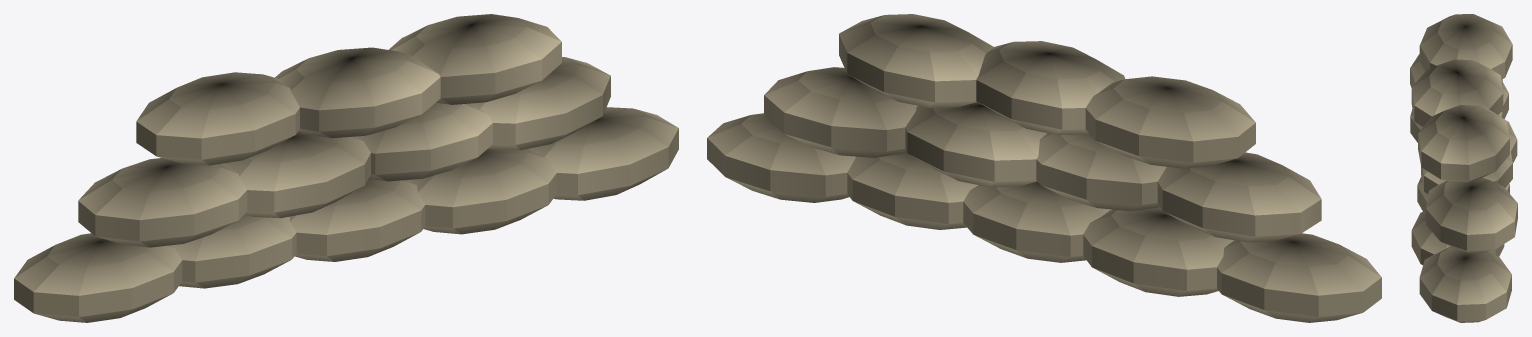
The model's file is prop_sandbags.glb.
3 renders of one model, left to right at view 1: azimuth 30°, elevation 25°; view 2: azimuth 150°, elevation 25°; view 3: azimuth 270°, elevation 25°, orthographic. The views are drawn at different scales.
Visible parts, largest first — view 1: Sandbags; view 2: Sandbags; view 3: Sandbags.
Boxes of the visible parts, bbox=[...] form: Sandbags: bbox=[14, 14, 678, 322]; Sandbags: bbox=[707, 14, 1381, 322]; Sandbags: bbox=[1410, 14, 1517, 322].
Size of the model in its own units: 3.26 by 0.93 by 0.6193.
